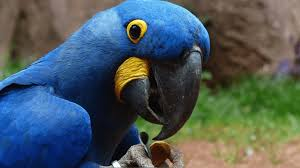guacamaya: (11, 1, 211, 168)
